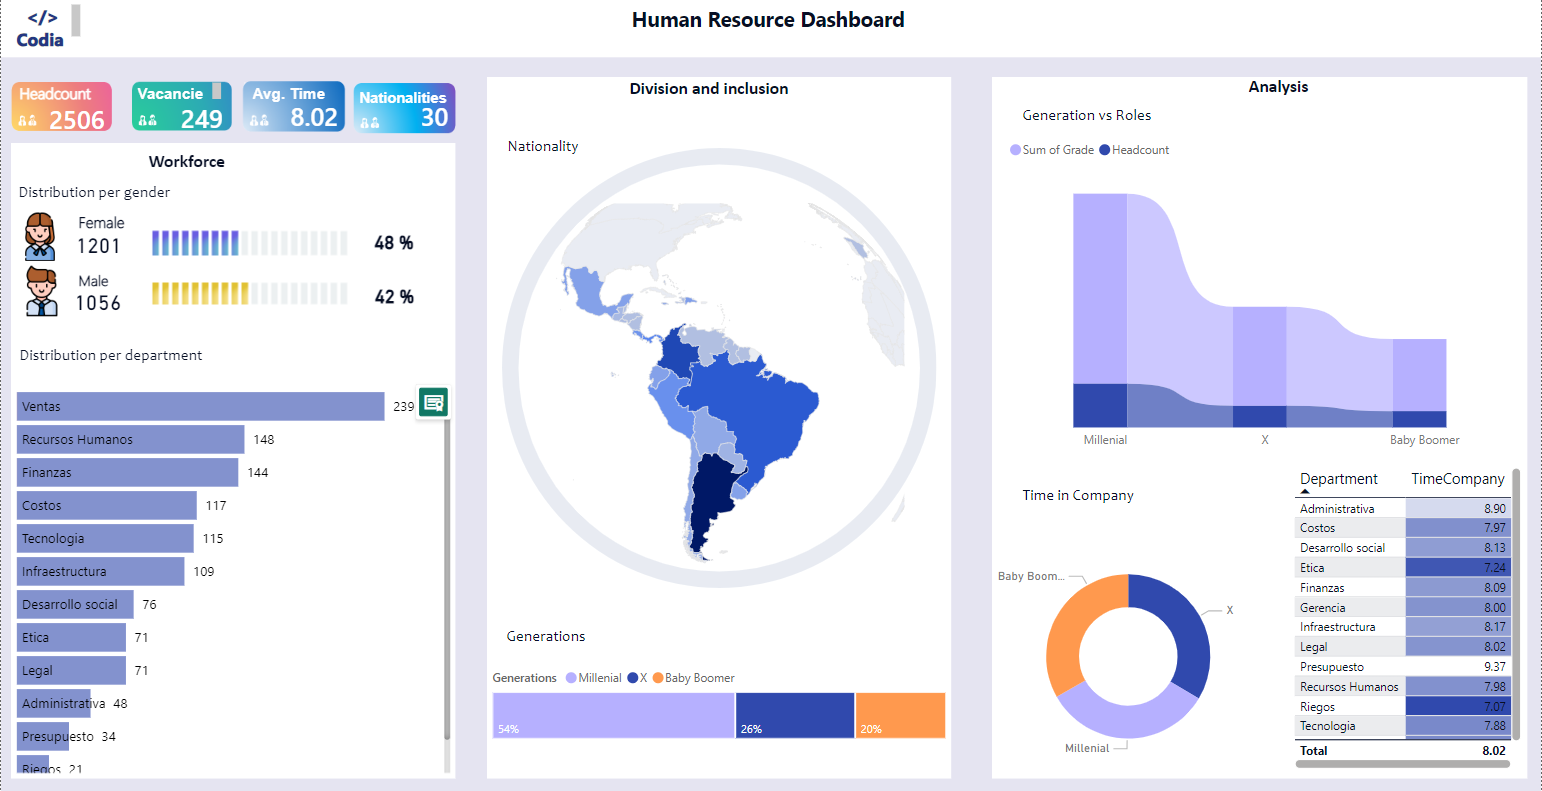

The page's visual inventory and layout, read from the dashboard file:
{"tool":"powerbi","page":{"name":"Page 1","canvas":[1400,720],"ordinal":0},"visuals":[{"type":"shape","box":[901.1,62.2,497.8,654.4],"z":0},{"type":"shape","box":[442.2,62.2,422.2,657.8],"z":1000},{"type":"shape","box":[0,0,1400,53],"z":2000},{"type":"shape","box":[455,135,395,400],"z":3000},{"type":"shapeMap","fields":{"Category":["Table 1 (Sheet1).Post of Duty"],"Value":["Table 1 (Sheet1).Headcount"]},"box":[468,181,358,354],"z":4000},{"type":"image","box":[311.7,67.5,110.8,65.8],"z":5000},{"type":"image","box":[0,66.7,110,62.5],"z":6000},{"type":"image","box":[109.4,62.3,113.9,68.9],"z":7000},{"type":"image","box":[212.7,64,108.3,67.2],"z":8000},{"type":"shape","box":[0,131.1,413.3,588.9],"z":9000},{"type":"deneb7E15AEF80B9E4D4F8E12924291ECE89A","fields":{"dataset":["Table 1 (Sheet1).Measure","Table 1 (Sheet1).Female %"]},"box":[97.9,213.2,260,103.2],"z":10000},{"type":"deneb7E15AEF80B9E4D4F8E12924291ECE89A","fields":{"dataset":["Table 1 (Sheet1).Measure","Table 1 (Sheet1).Male %","Table 1 (Sheet1).Female %"]},"box":[97.9,165.3,260,105.8],"z":11000},{"type":"textbox","box":[550,0,300,39],"z":12000},{"type":"image","box":[9.3,235,55.7,60],"z":13000},{"type":"image","box":[5.7,189.3,59.3,53.6],"z":14000},{"type":"textbox","box":[65.3,240.5,48.9,30.5],"z":15000},{"type":"card","fields":{"Values":["Table 1 (Sheet1).Female"]},"box":[60.5,207.4,55.8,33.2],"z":16000},{"type":"card","fields":{"Values":["Table 1 (Sheet1).Female %"]},"box":[327.5,202.5,60,38.8],"z":17000},{"type":"card","fields":{"Values":["Table 1 (Sheet1).Male %"]},"box":[330,251.6,55.3,38.9],"z":18000},{"type":"card","fields":{"Values":["Table 1 (Sheet1).Male"]},"box":[57.4,255.3,61.6,41.6],"z":19000},{"type":"textbox","box":[128.9,133.2,128.9,32.1],"z":20000},{"type":"textbox","box":[65.3,188.4,64.7,35.8],"z":21000},{"type":"textbox","box":[10.9,160,270,42.7],"z":22000},{"type":"textbox","box":[12.2,307.8,235.6,38.9],"z":23000},{"type":"horizontalBarChartPBICraft","fields":{"category":["Table 1 (Sheet1).Department"],"measure":["Table 1 (Sheet1).Female"],"overlapValues":["Table 1 (Sheet1).Headcount"]},"box":[1.1,346.7,412.2,362.2],"z":24000},{"type":"textbox","box":[555,62.5,221.2,76.2],"z":25000},{"type":"textbox","box":[1130,63.8,127.5,36.2],"z":26000},{"type":"treemap","fields":{"Group":["Table 1 (Sheet1).Generations"],"Values":["Table 1 (Sheet1).Headcount"]},"box":[442.2,622.2,422.2,78.9],"z":27000},{"type":"textbox","box":[455.6,117.8,270,43.3],"z":28000},{"type":"textbox","box":[454.4,563.3,270,43.3],"z":29000},{"type":"ribbonChart","fields":{"Category":["Table 1 (Sheet1).Generations"],"Y":["Sum(Table 1 (Sheet1).Grade)","Table 1 (Sheet1).Headcount"]},"box":[912.2,117.8,474.4,300],"z":30000},{"type":"donutChart","fields":{"Category":["Table 1 (Sheet1).Generations"],"Y":["Table 1 (Sheet1).TimeCompany"]},"box":[901.1,477.8,247.8,238.9],"z":31000},{"type":"textbox","box":[923.3,90,270,42.2],"z":32000},{"type":"textbox","box":[923.3,435.6,270,42.2],"z":33000},{"type":"tableEx","fields":{"Values":["Table 1 (Sheet1).Department","Table 1 (Sheet1).TimeCompany"]},"box":[1171.1,435.6,216.7,284.4],"z":34000},{"type":"card","fields":{"Values":["Table 1 (Sheet1).Headcount"]},"box":[28.9,90,80,41.1],"z":35000},{"type":"card","fields":{"Values":["Table 1 (Sheet1).Headcount"]},"box":[145.6,74.4,74.4,70],"z":36000},{"type":"card","fields":{"Values":["Table 1 (Sheet1).TimeCompany"]},"box":[247.8,82.2,73.3,53.3],"z":37000},{"type":"card","fields":{"Values":["Count(Table 1 (Sheet1).Post of Duty)"]},"box":[366.7,82.2,55.6,53.3],"z":38000},{"type":"textbox","box":[12.2,71.1,85.6,28.9],"z":39001},{"type":"textbox","box":[118.9,71.1,85.6,28.9],"z":39002},{"type":"textbox","box":[223.3,71.1,85.6,28.9],"z":39003},{"type":"textbox","box":[321.1,74.4,102.2,30],"z":39004},{"type":"textbox","box":[1.1,0,67.8,53.3],"z":39005}]}

Visuals, with their boxes in screenshot pixels (x1, y1, x2, y2), scaled from the page's 1400x720 canvas onto the 1542x791 screenshot:
shape: 992/68/1541/787
shape: 487/68/952/790
shape: 0/0/1541/58
shape: 501/148/936/588
shapeMap - Table 1 (Sheet1).Post of Duty x Table 1 (Sheet1).Headcount: 515/199/910/588
image: 343/74/465/146
image: 0/73/121/142
image: 120/68/246/144
image: 234/70/354/144
shape: 0/144/455/790
deneb7E15AEF80B9E4D4F8E12924291ECE89A - Table 1 (Sheet1).Measure x Table 1 (Sheet1).Female %: 108/234/394/348
deneb7E15AEF80B9E4D4F8E12924291ECE89A - Table 1 (Sheet1).Measure x Table 1 (Sheet1).Male %: 108/182/394/298
textbox: 606/0/936/43
image: 10/258/72/324
image: 6/208/72/267
textbox: 72/264/126/298
card - Table 1 (Sheet1).Female: 67/228/128/264
card - Table 1 (Sheet1).Female %: 361/222/427/265
card - Table 1 (Sheet1).Male %: 363/276/424/319
card - Table 1 (Sheet1).Male: 63/280/131/326
textbox: 142/146/284/182
textbox: 72/207/143/246
textbox: 12/176/309/223
textbox: 13/338/273/381
horizontalBarChartPBICraft - Table 1 (Sheet1).Department x Table 1 (Sheet1).Female: 1/381/455/779
textbox: 611/69/855/152
textbox: 1245/70/1385/110
treemap - Table 1 (Sheet1).Generations x Table 1 (Sheet1).Headcount: 487/684/952/770
textbox: 502/129/799/177
textbox: 500/619/798/666
ribbonChart - Table 1 (Sheet1).Generations x Sum(Table 1 (Sheet1).Grade): 1005/129/1527/459
donutChart - Table 1 (Sheet1).Generations x Table 1 (Sheet1).TimeCompany: 992/525/1265/787
textbox: 1017/99/1314/145
textbox: 1017/479/1314/525
tableEx - Table 1 (Sheet1).Department x Table 1 (Sheet1).TimeCompany: 1290/479/1529/790
card - Table 1 (Sheet1).Headcount: 32/99/120/144
card - Table 1 (Sheet1).Headcount: 160/82/242/159
card - Table 1 (Sheet1).TimeCompany: 273/90/354/149
card - Count(Table 1 (Sheet1).Post of Duty): 404/90/465/149
textbox: 13/78/108/110
textbox: 131/78/225/110
textbox: 246/78/340/110
textbox: 354/82/466/115
textbox: 1/0/76/59
